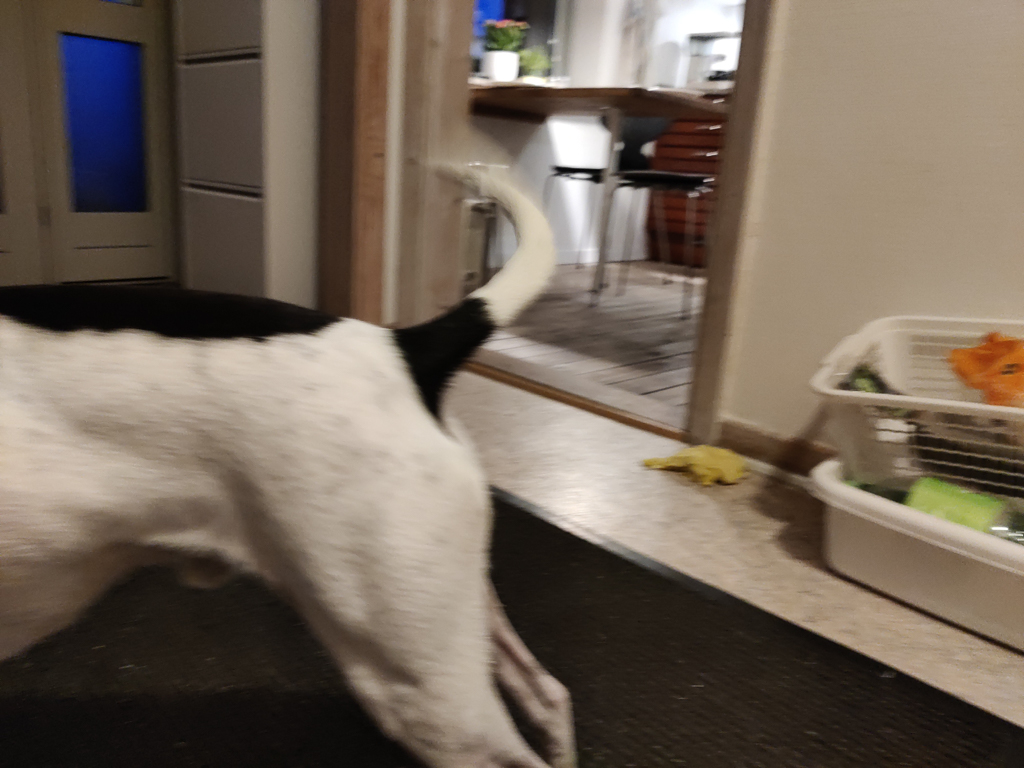Dog: (0, 131, 621, 768)
